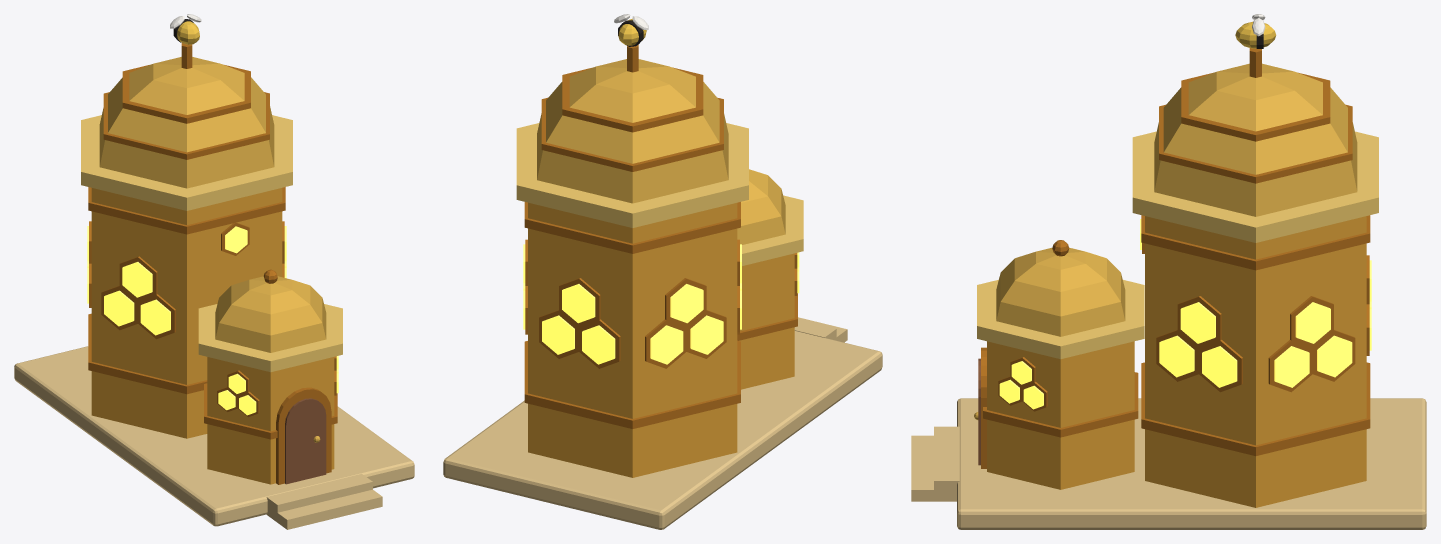
File: hive.glb
3 renders of one model, left to right at view 1: azimuth 30°, elevation 25°; view 2: azimuth 150°, elevation 25°; view 3: azimuth 270°, elevation 25°, orthographic. The views are drawn at different scales.
Visible parts, largest first — view 1: Hive; view 2: Hive; view 3: Hive.
Boxes of the visible parts, bbox=[...] form: Hive: bbox=[14, 14, 414, 529]; Hive: bbox=[443, 14, 882, 529]; Hive: bbox=[911, 14, 1426, 529].
Bounding box in the file's own units: 2 × 3.55 × 3.62.
